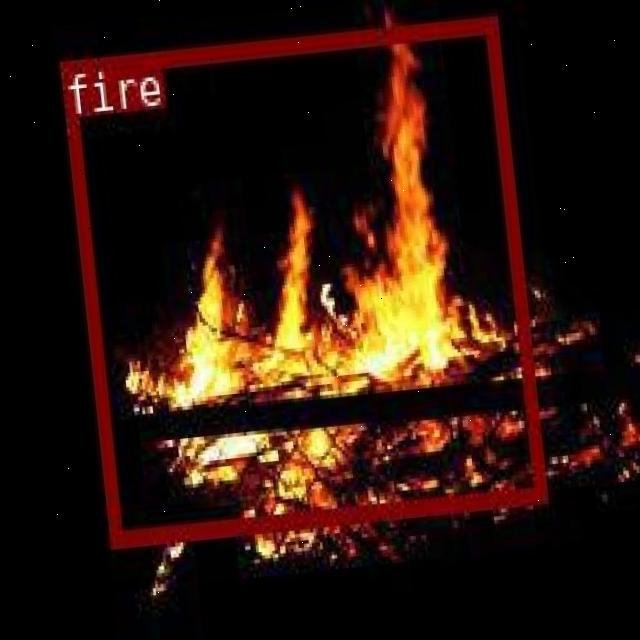fire: (58, 17, 544, 544)
